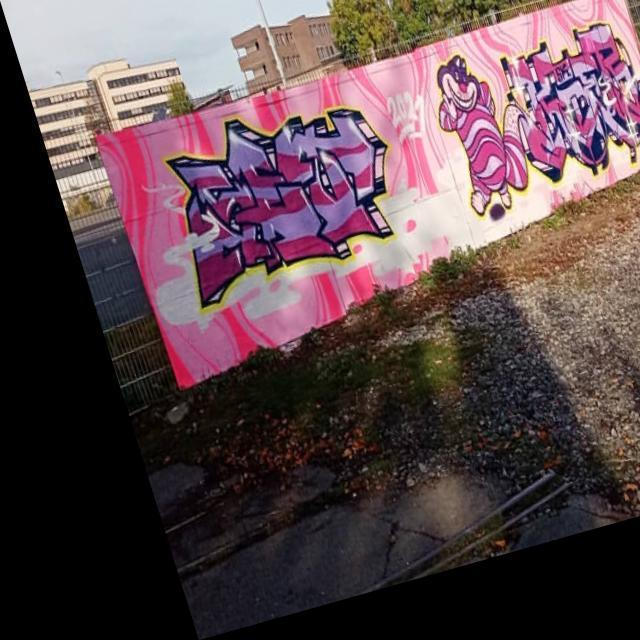-: (129, 111, 411, 328), (483, 52, 640, 215), (412, 63, 530, 251)
